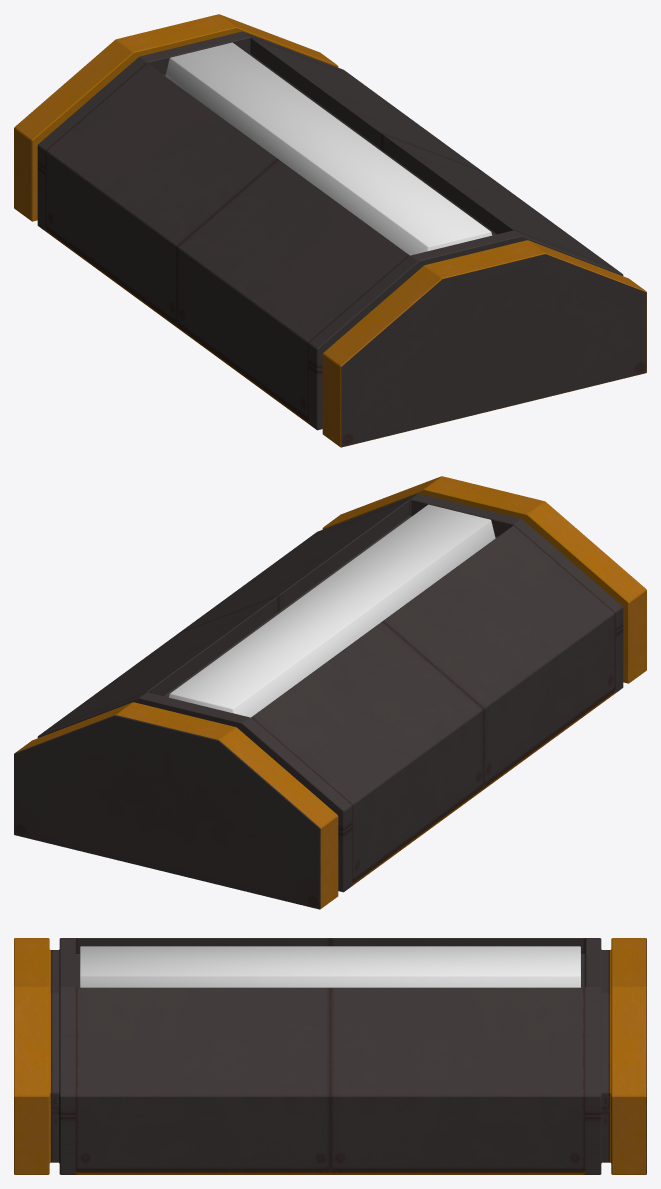
File: Light.fbx
3 views of the same model, one above another, from view 1: azimuth 30°, elevation 25°; view 2: azimuth 150°, elevation 25°; view 3: azimuth 270°, elevation 25° (orthographic). The views are drawn at different scales.
Parts seen in each view (by area): view 1: Light_LOD0; view 2: Light_LOD0; view 3: Light_LOD0.
Part boxes in pixels (box(x1,y1,x2,y2)): Light_LOD0: box(14, 14, 646, 447); Light_LOD0: box(14, 476, 646, 909); Light_LOD0: box(14, 938, 646, 1174).
Size of what is drawn, in the model's own units: 1.57 by 2.89 by 0.7152.
